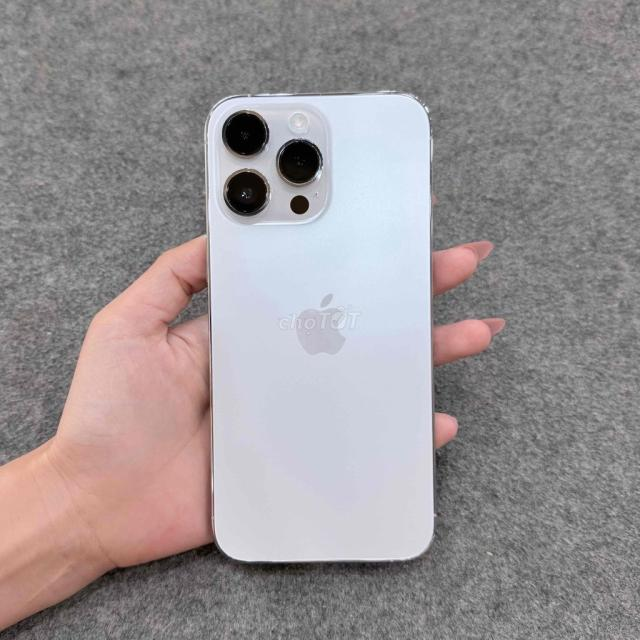gen_14: (192, 87, 450, 573)
